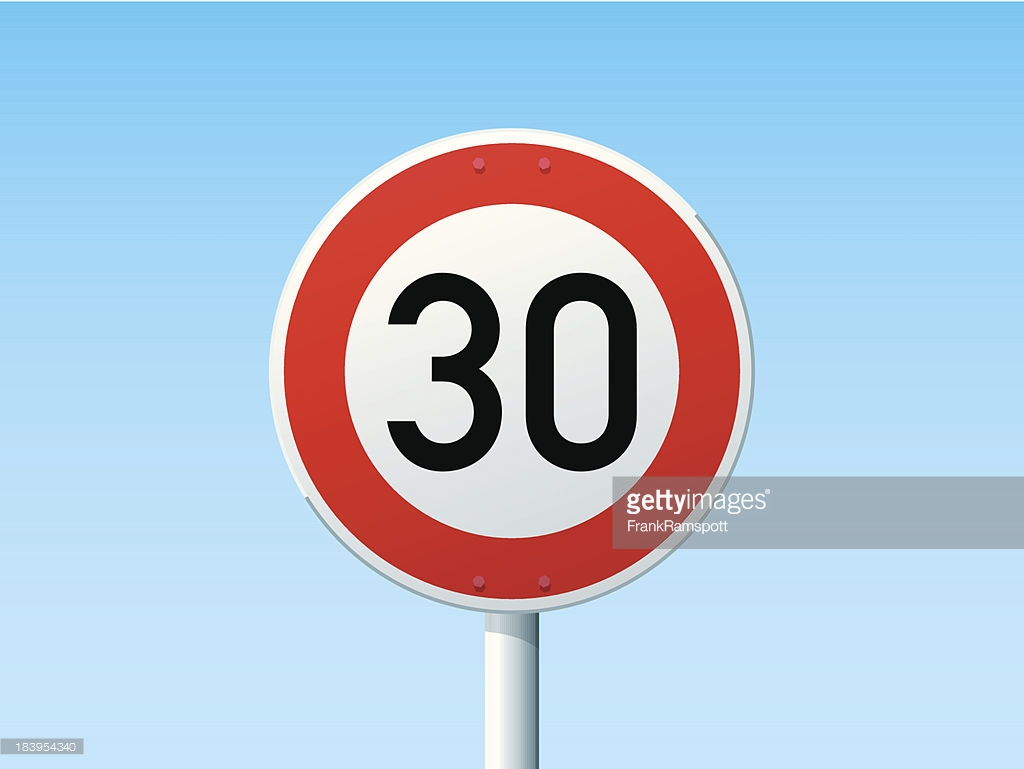Speed_limit_30km: (267, 127, 759, 608)
